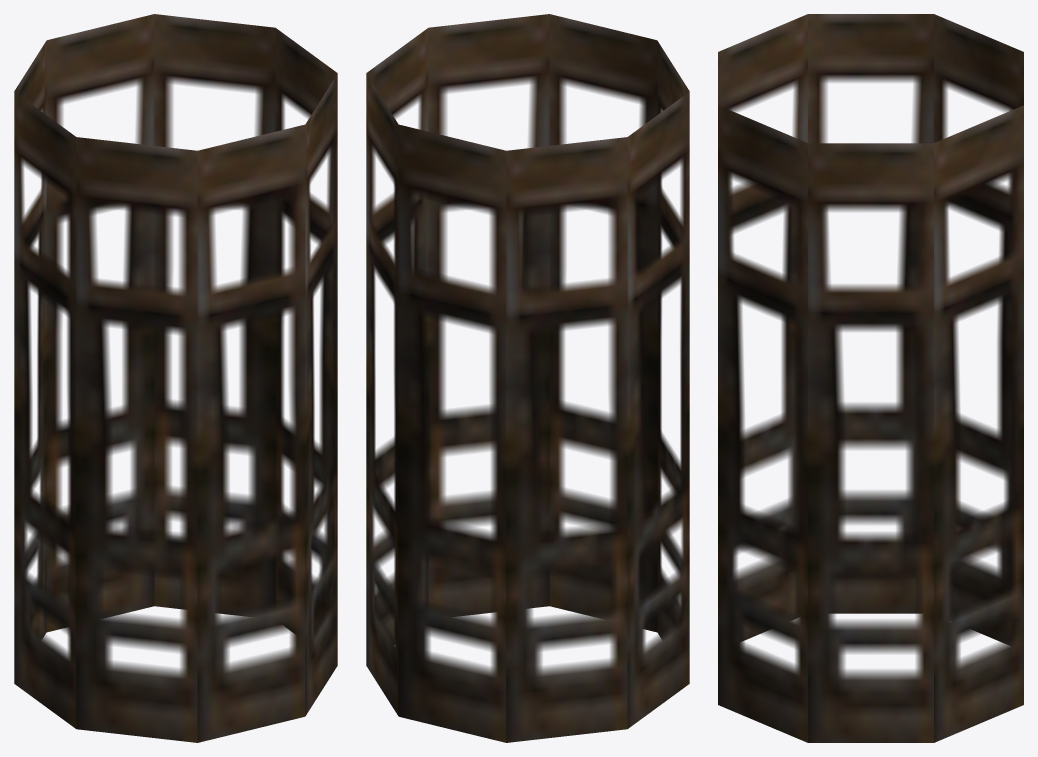
Rendered from prop-044.glb.
The picture shows the model from 3 angles, left to right: view 1: azimuth 30°, elevation 25°; view 2: azimuth 150°, elevation 25°; view 3: azimuth 270°, elevation 25°; orthographic projection.
Visible parts, largest first — view 1: root; view 2: root; view 3: root.
Boxes of the visible parts, <box> form: root: <box>14,14,337,742</box>; root: <box>366,14,689,742</box>; root: <box>718,14,1023,742</box>.
Size of the model in its own units: 0.9238 by 2 by 0.9238.
1 material, 1 textured.
